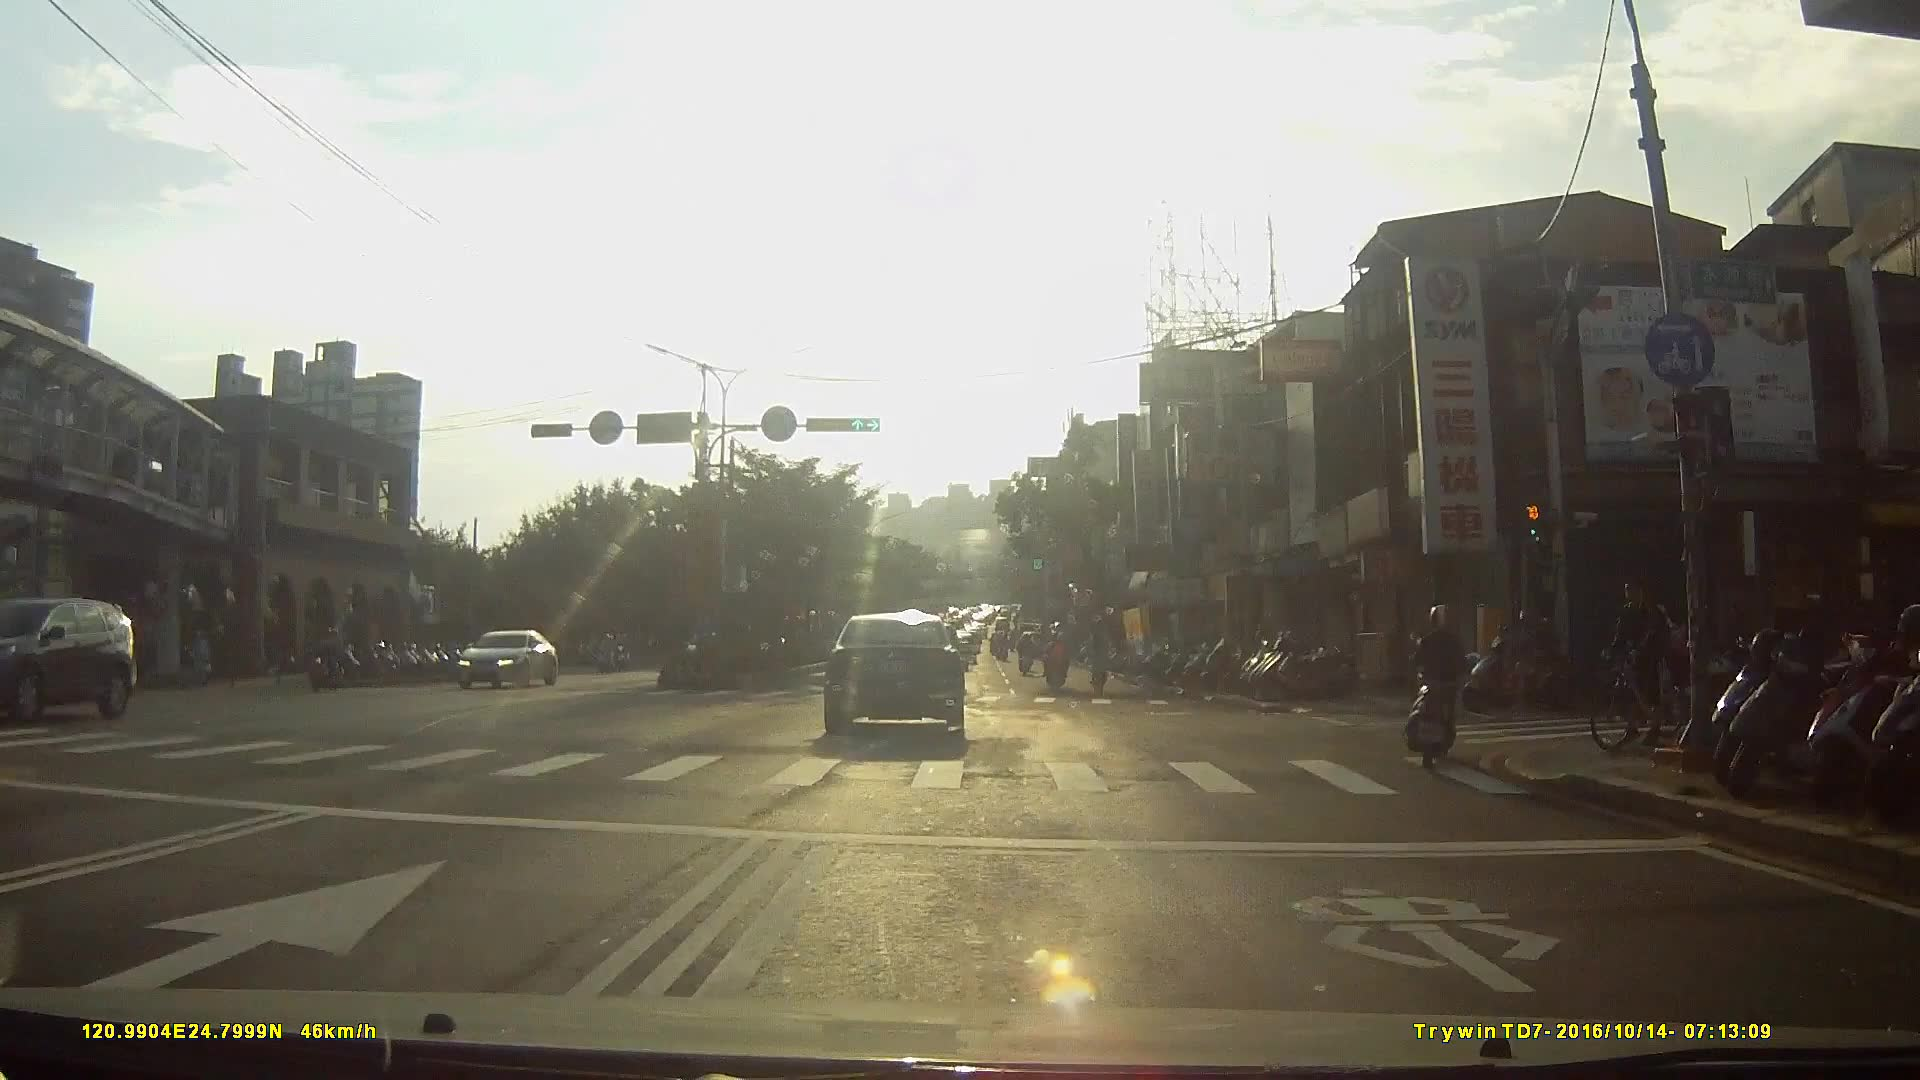rider: (1585, 568, 1716, 754), (1403, 602, 1472, 769), (308, 625, 346, 685), (1042, 630, 1075, 694), (1016, 629, 1038, 678)
vehicle: (823, 609, 983, 751), (8, 585, 145, 724), (455, 628, 559, 687)
